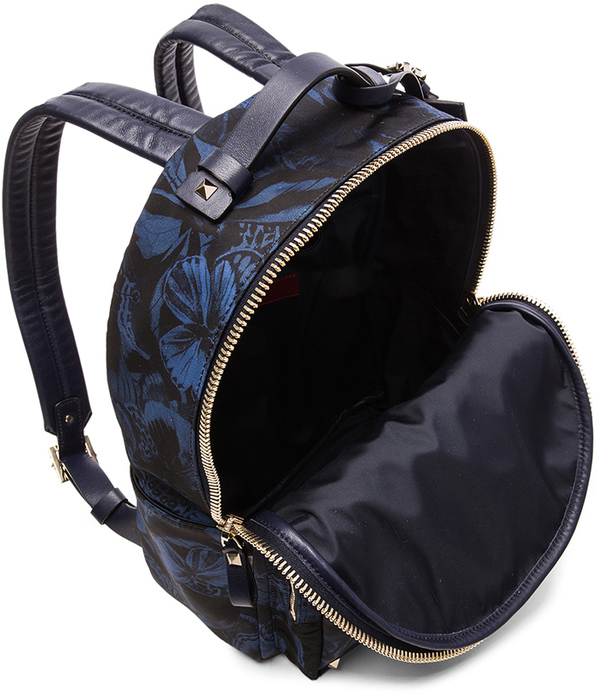flexible: (4, 4, 593, 683)
